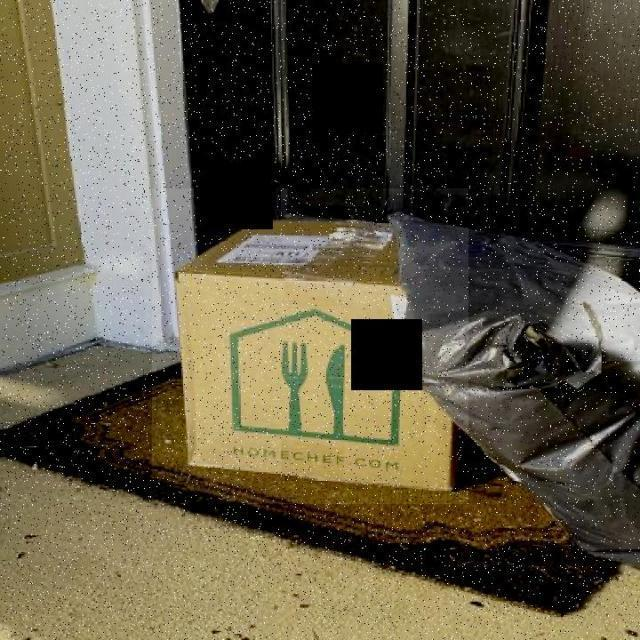box: (152, 188, 468, 504)
